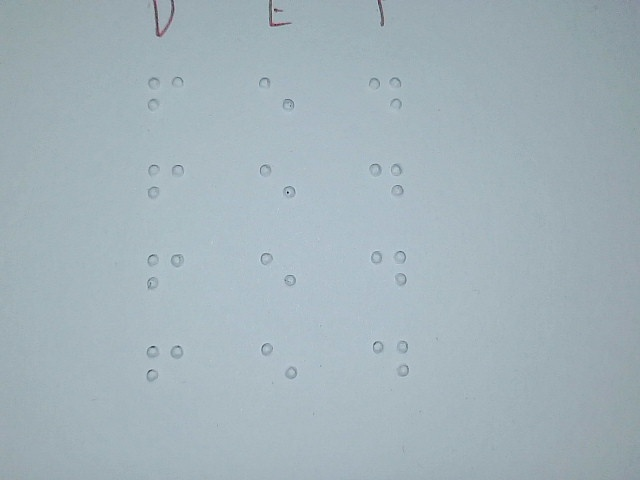D: (365, 62, 406, 138), (366, 147, 407, 223), (369, 234, 410, 310), (370, 325, 411, 401)
E: (257, 64, 297, 139), (257, 151, 297, 226), (258, 236, 298, 311), (259, 328, 299, 403)
F: (146, 62, 186, 134), (146, 148, 186, 220), (146, 237, 186, 309), (145, 329, 185, 401)
